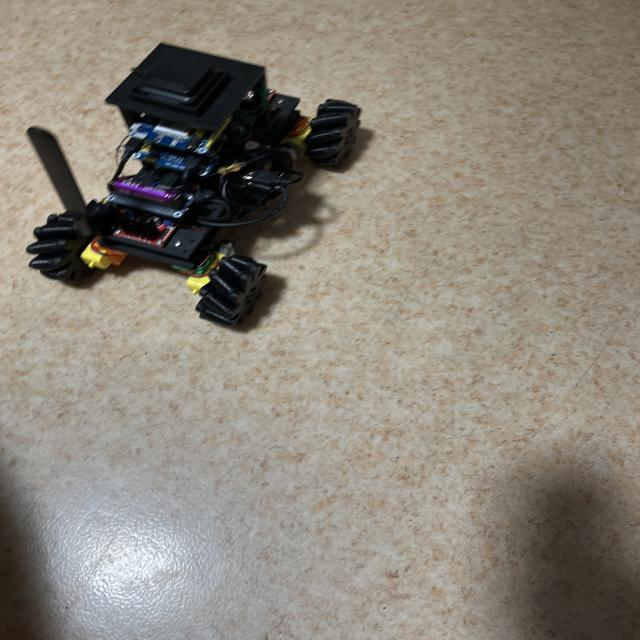robot: (26, 43, 360, 326)
